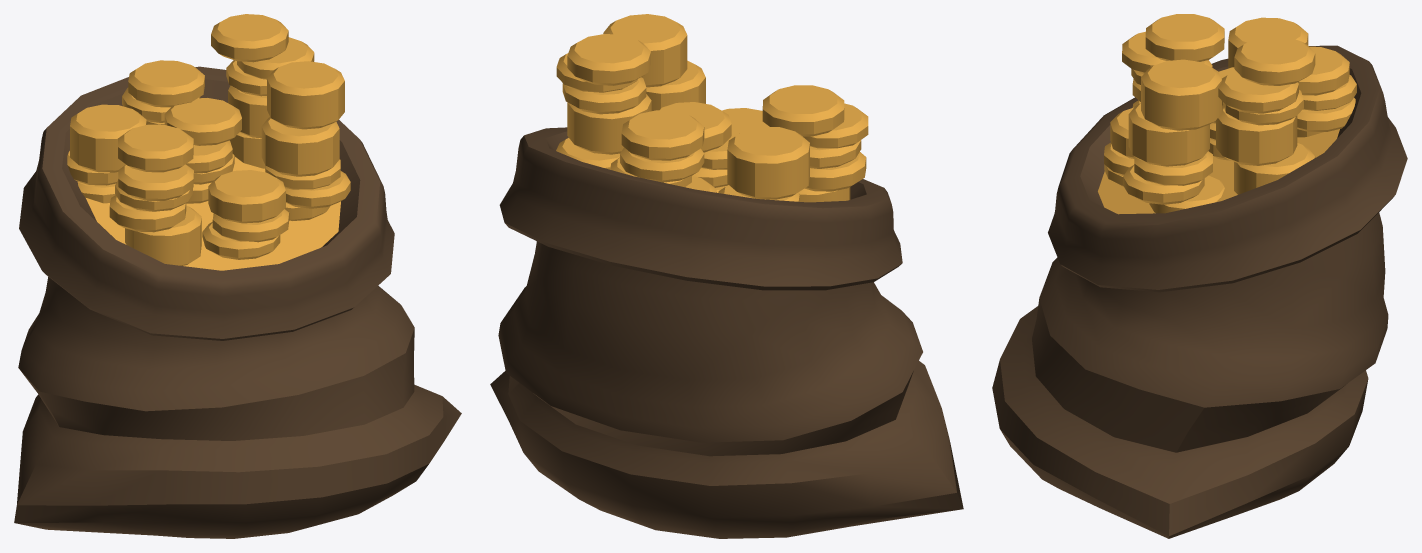
File: prop_gold_bag.glb
The picture shows the model from 3 angles, left to right: view 1: azimuth 30°, elevation 25°; view 2: azimuth 150°, elevation 25°; view 3: azimuth 270°, elevation 25°; orthographic projection. The views are drawn at different scales.
Visible parts, largest first — view 1: Prop_GoldBag; view 2: Prop_GoldBag; view 3: Prop_GoldBag.
Part boxes in pixels (x1,y1,x2,y2): Prop_GoldBag: [14, 14, 461, 538]; Prop_GoldBag: [490, 14, 963, 538]; Prop_GoldBag: [992, 14, 1407, 538].
Size of the model in its own units: 0.6661 by 0.6153 by 0.5187.
Materials: 1 (1 with a texture image).
